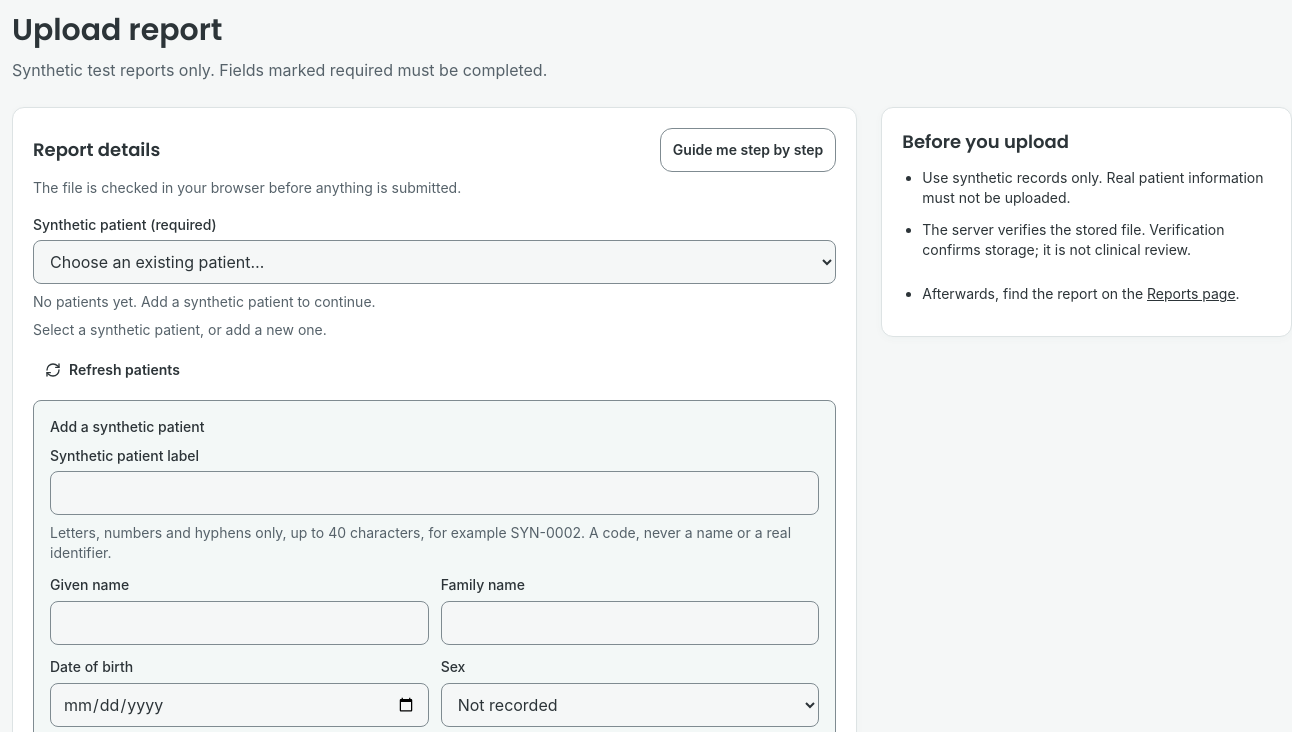
adding a synthetic patient › adds the patient when Enter is pressed in the label field, and does not submit the upload
Expected: the text "No patients yet. Add a synthetic patient to continue." is shown, [33,292,376,312]
Type "SYN-0002" into the field labelled "Synthetic patient label".
click(435, 493); type("SYN-0002")  # box [50,471,819,515]
Then press Enter
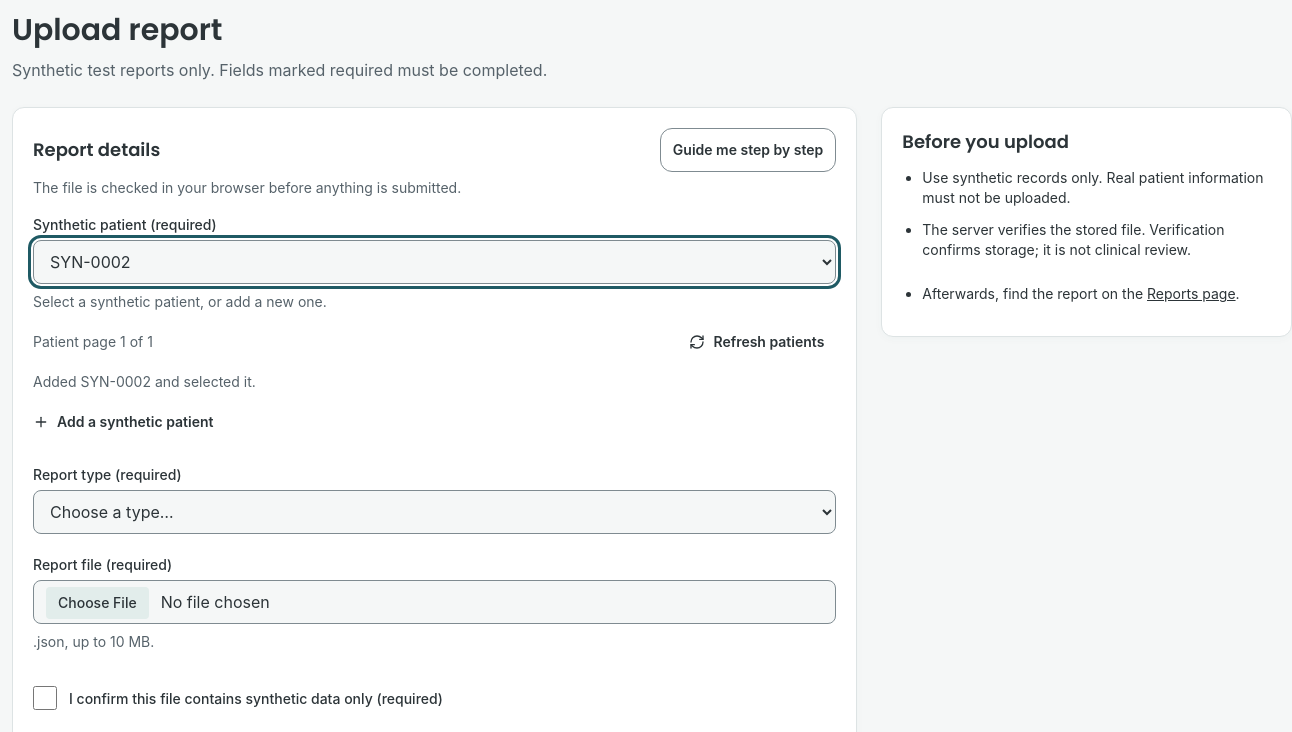
Now the text "Added SYN-0002 and selected it." is shown, box [33,373,256,390]
